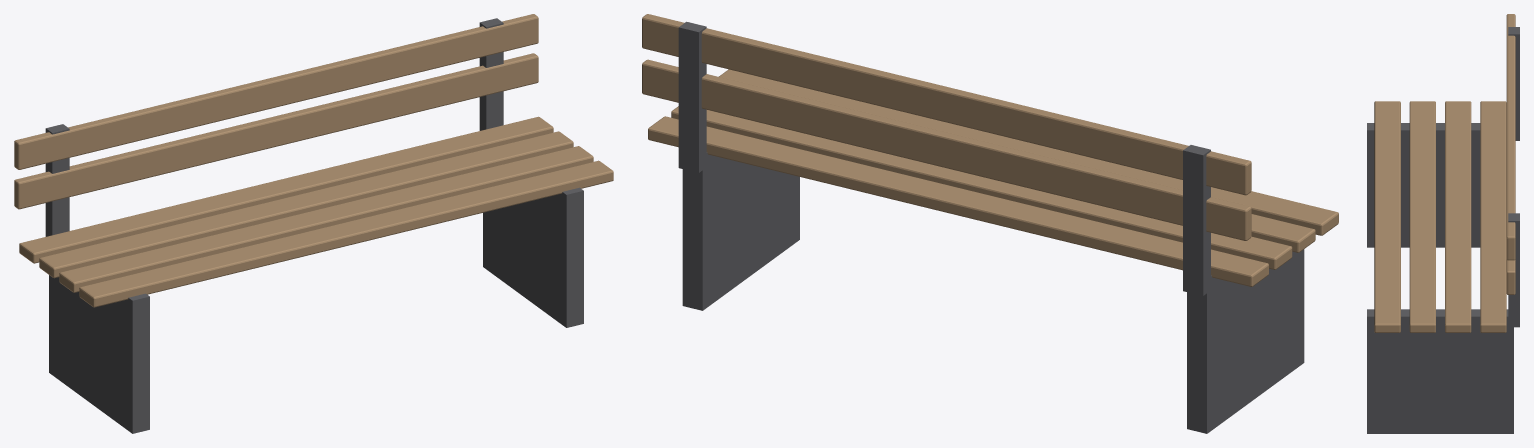
File: bench.glb
3 views of the same model, side by side, from view 1: azimuth 30°, elevation 25°; view 2: azimuth 150°, elevation 25°; view 3: azimuth 270°, elevation 25° (orthographic). The views are drawn at different scales.
Parts seen in each view (by area): view 1: Slats, Frame; view 2: Slats, Frame; view 3: Slats, Frame.
Boxes of the visible parts, x1,y1,x2,y2 form: Slats: [14, 14, 613, 307]; Frame: [45, 18, 583, 433]; Slats: [642, 14, 1338, 286]; Frame: [678, 21, 1304, 433]; Slats: [1374, 14, 1515, 332]; Frame: [1367, 27, 1519, 433].
Size of the model in its own units: 1.8 by 0.8 by 0.52.
